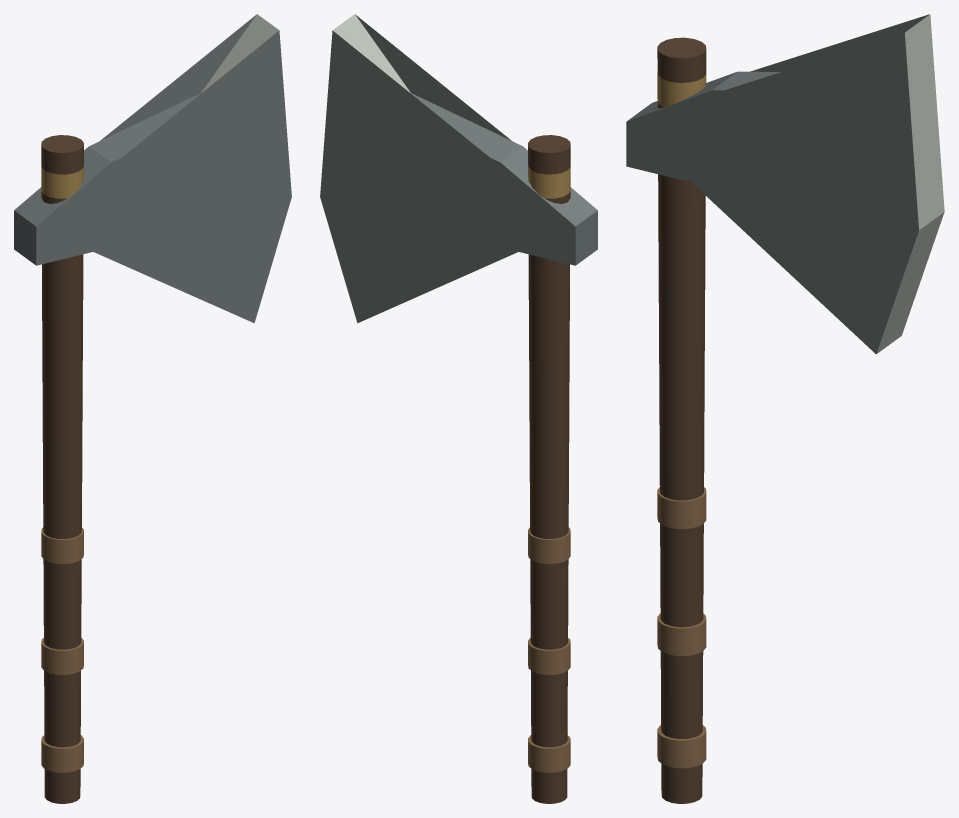
Rendered from expedition_axe.glb.
3 renders of one model, left to right at view 1: azimuth 30°, elevation 25°; view 2: azimuth 150°, elevation 25°; view 3: azimuth 330°, elevation 25°, orthographic. The views are drawn at different scales.
Visible parts, largest first — view 1: expedition_axe; view 2: expedition_axe; view 3: expedition_axe.
Part boxes in pixels (x1,y1,x2,y2): expedition_axe: (14,14,291,803); expedition_axe: (320,14,597,803); expedition_axe: (626,14,944,803).
Size of the model in its own units: 0.41 by 1.11 by 0.062.
